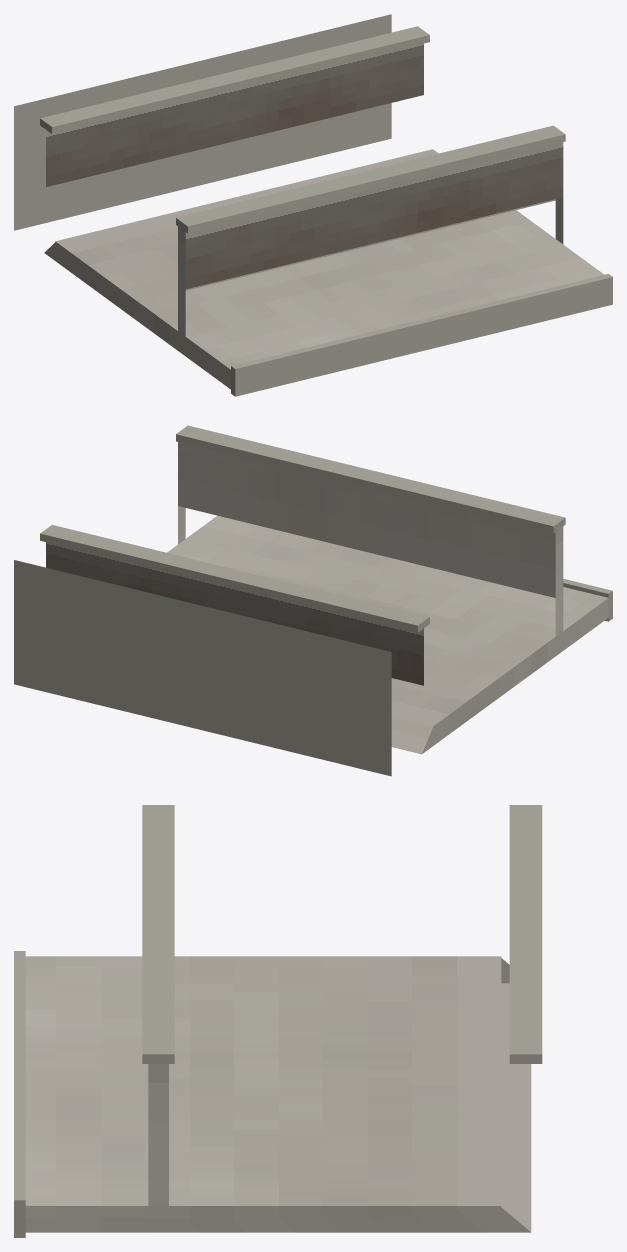
The picture shows the model from 3 angles, top to bottom: view 1: azimuth 30°, elevation 25°; view 2: azimuth 150°, elevation 25°; view 3: azimuth 270°, elevation 25°; orthographic projection. The views are drawn at different scales.
Size of the model in its own units: 1 by 0.343 by 1.01.
